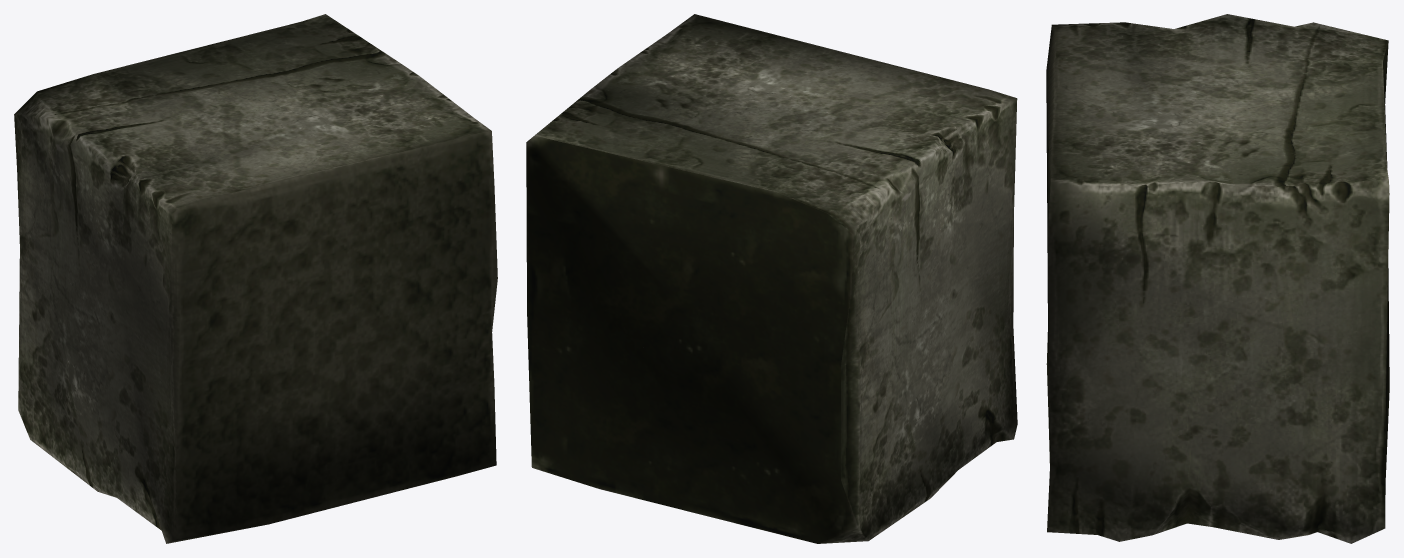
Rendered from MagicalSton.fbx.
3 views of the same model, side by side, from view 1: azimuth 30°, elevation 25°; view 2: azimuth 150°, elevation 25°; view 3: azimuth 270°, elevation 25° (orthographic). The views are drawn at different scales.
Parts seen in each view (by area): view 1: TI_Obelisk_Part_02; view 2: TI_Obelisk_Part_02; view 3: TI_Obelisk_Part_02.
Part boxes in pixels (x1=…): TI_Obelisk_Part_02: x1=14, y1=14, x2=497, y2=543; TI_Obelisk_Part_02: x1=526, y1=14, x2=1017, y2=543; TI_Obelisk_Part_02: x1=1046, y1=14, x2=1389, y2=543.
Bounding box in the file's own units: 0.7996 × 0.8057 × 0.6909.
Materials: 1 (1 with a texture image).
